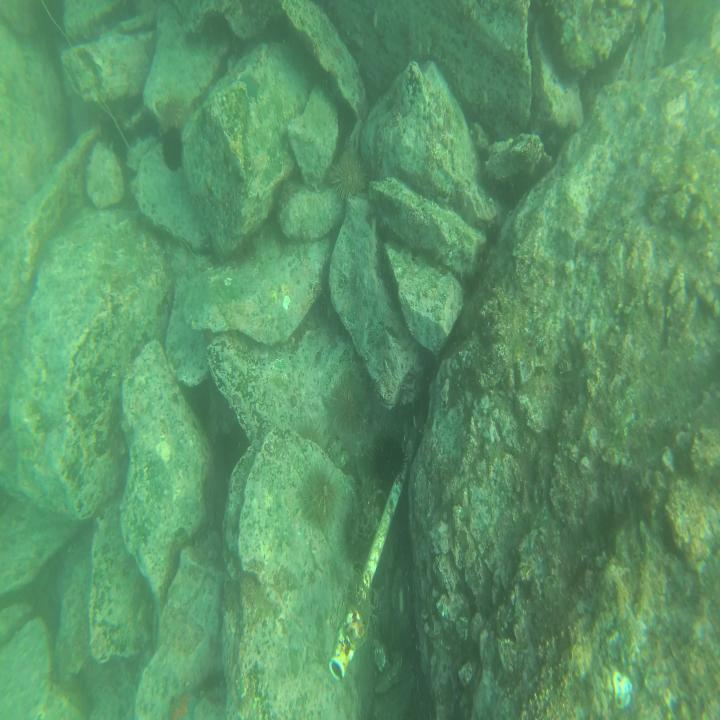echinus: (374, 427, 406, 488), (332, 372, 364, 433), (302, 470, 338, 522), (332, 148, 366, 203), (159, 122, 183, 170), (294, 417, 323, 452)
starfish: (167, 690, 202, 720), (239, 66, 265, 102)
